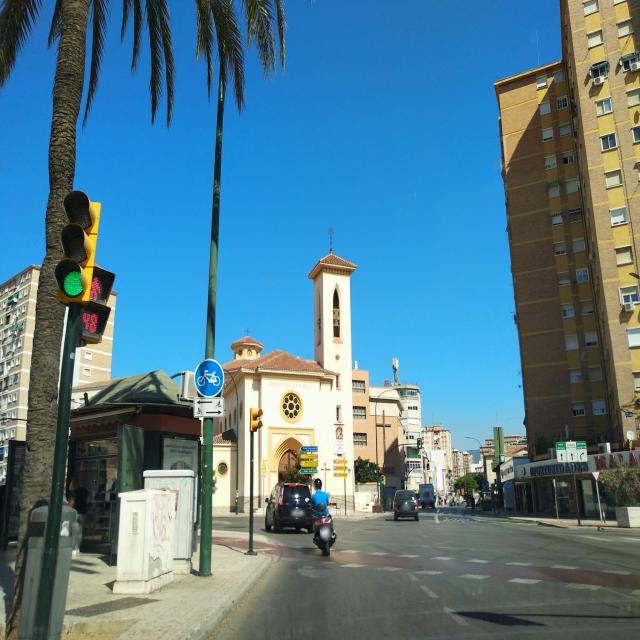bike: (310, 499, 336, 557)
car: (264, 480, 314, 534), (392, 488, 420, 522), (419, 483, 437, 509)
